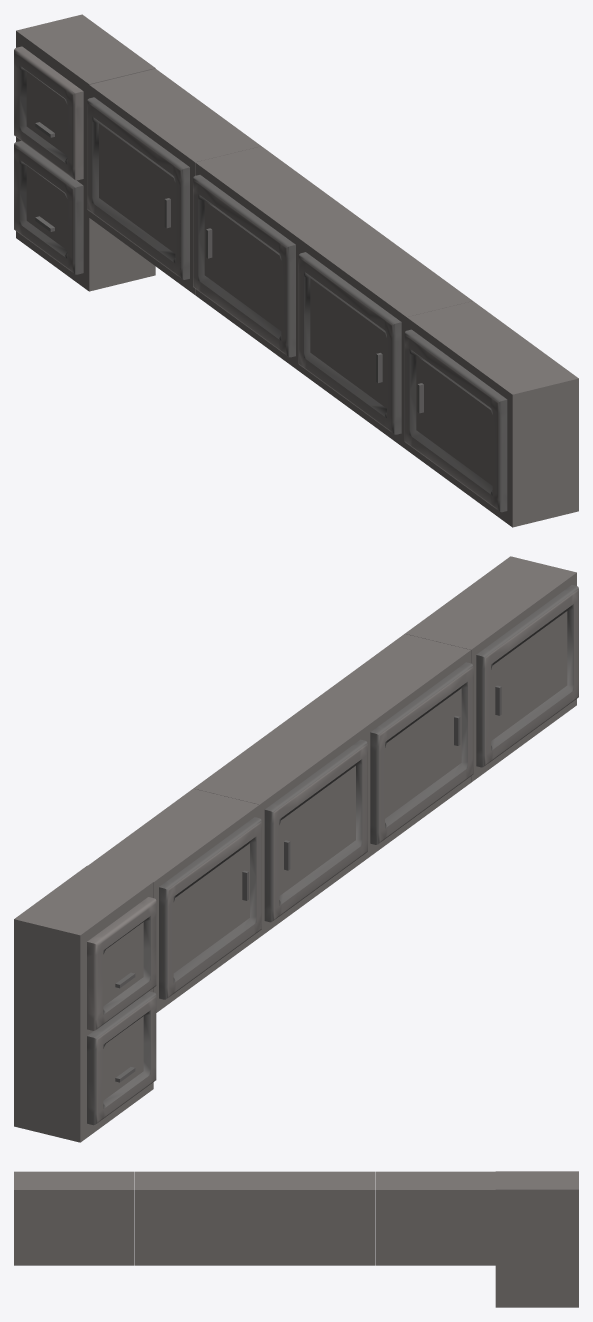
File: arriba.obj
The picture shows the model from 3 angles, top to bottom: view 1: azimuth 30°, elevation 25°; view 2: azimuth 150°, elevation 25°; view 3: azimuth 270°, elevation 25°; orthographic projection. The views are drawn at different scales.
Parts seen in each view (by area): view 1: Cajon_1, Cajon_3, Cajon_2, Cajon_2.001, Cajon_1.001; view 2: Cajon_3, Cajon_1.001, Cajon_2, Cajon_1, Cajon_2.001; view 3: Cajon_3, Cajon_2.001, Cajon_1, Cajon_2, Cajon_1.001.
Boxes of the visible parts, box(x1,y1,x2,y2) form: Cajon_1: box(404, 301, 578, 527); Cajon_3: box(14, 14, 155, 291); Cajon_2: box(298, 223, 472, 449); Cajon_2.001: box(87, 68, 261, 294); Cajon_1.001: box(193, 146, 366, 372); Cajon_3: box(14, 865, 156, 1142); Cajon_1.001: box(193, 711, 367, 936); Cajon_2: box(299, 634, 473, 859); Cajon_1: box(405, 556, 578, 782); Cajon_2.001: box(88, 788, 261, 1012); Cajon_3: box(495, 1171, 578, 1307); Cajon_2.001: box(375, 1171, 495, 1265); Cajon_1: box(14, 1171, 134, 1265); Cajon_2: box(134, 1171, 254, 1265); Cajon_1.001: box(254, 1171, 374, 1265).
Bounding box in the file's own units: 1.82 × 4.72 × 20.47.
5 materials, 5 textured.
